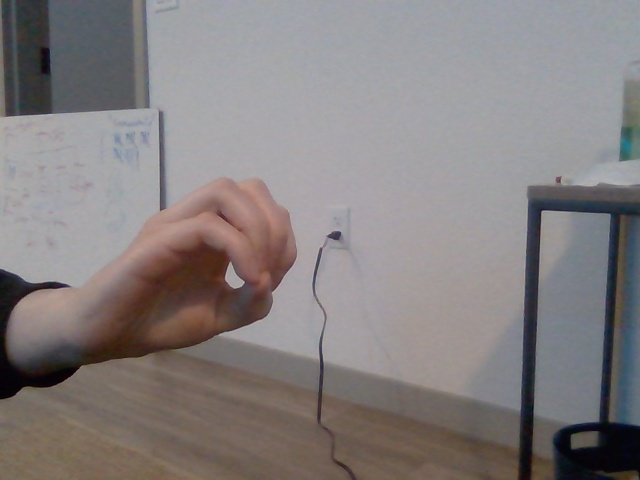o: (147, 177, 296, 360)
